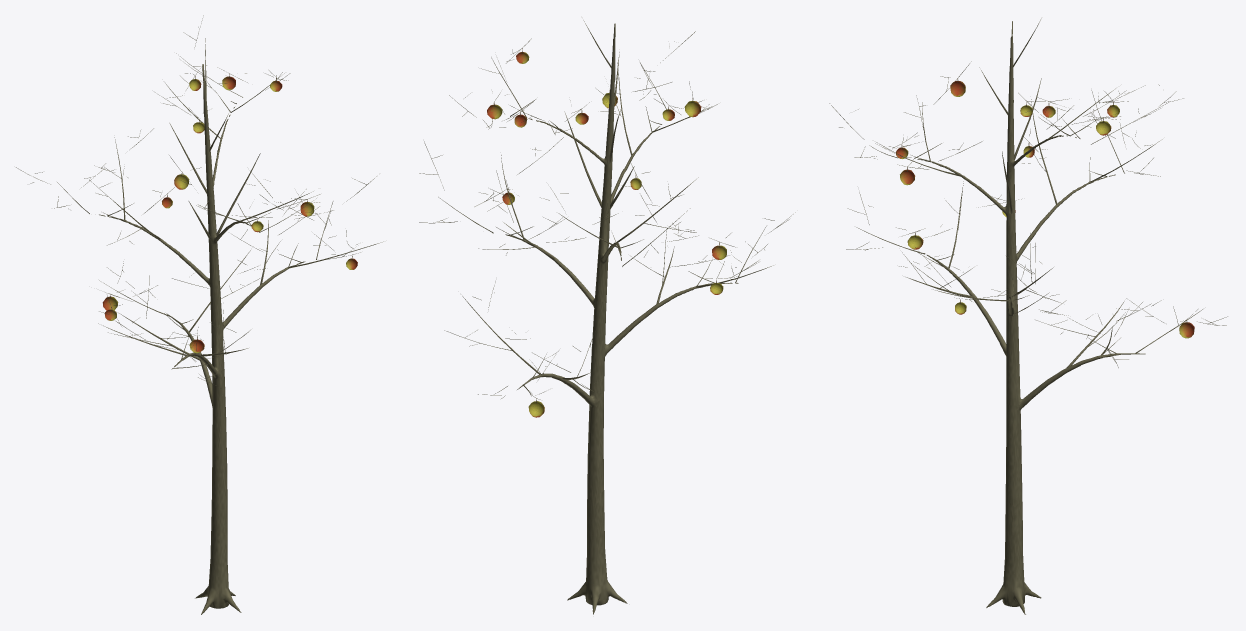
File: jablon_5.glb
3 views of the same model, side by side, from view 1: azimuth 30°, elevation 25°; view 2: azimuth 150°, elevation 25°; view 3: azimuth 270°, elevation 25° (orthographic). The views are drawn at different scales.
Parts seen in each view (by area): view 1: 01_Young_trunk_and_branches.004, 02_Young_twigs.004, 05_Apples.004; view 2: 01_Young_trunk_and_branches.004, 02_Young_twigs.004, 05_Apples.004; view 3: 01_Young_trunk_and_branches.004, 02_Young_twigs.004, 05_Apples.004.
Boxes of the visible parts, box(x1,y1,x2,y2) form: 01_Young_trunk_and_branches.004: box(99, 64, 305, 614); 02_Young_twigs.004: box(16, 15, 383, 388); 05_Apples.004: box(102, 76, 357, 353); 01_Young_trunk_and_branches.004: box(492, 23, 738, 614); 02_Young_twigs.004: box(419, 20, 795, 399); 05_Apples.004: box(487, 52, 726, 417); 01_Young_trunk_and_branches.004: box(906, 21, 1145, 614); 02_Young_twigs.004: box(829, 18, 1227, 367); 05_Apples.004: box(896, 81, 1194, 338).
Size of what is drawn, in the model's own units: 1.57 by 2.73 by 1.69.
3 materials, 2 textured.
